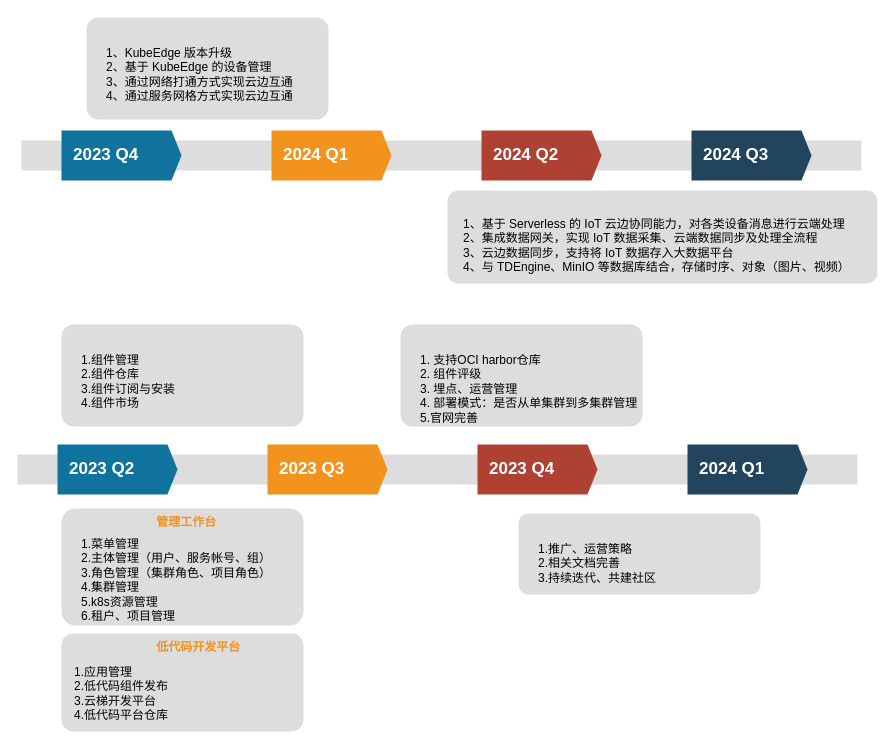
Image size: 894x748. Some labels were removed from this diagram. The box of each missing label's shape, as (x1, y1, x2, y2) in pixels:
v0.1.0: (61, 324, 303, 426)
v0.2.0: (400, 324, 642, 426)
v5.6.0: (86, 17, 328, 119)
v6.0: (447, 190, 877, 283)
全面推广: (518, 513, 760, 594)
